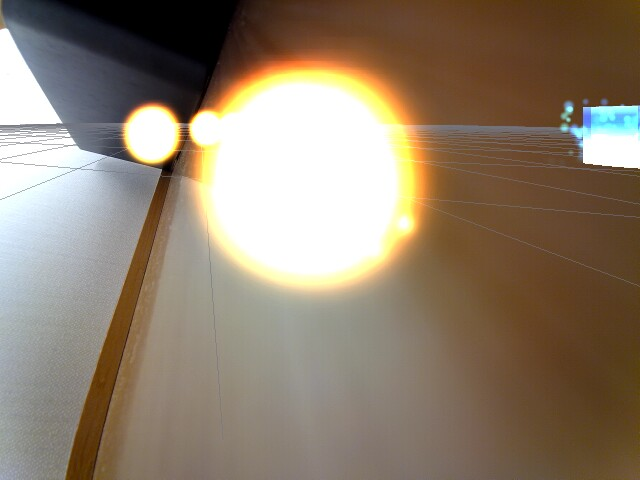firebig: (214, 58, 419, 303)
